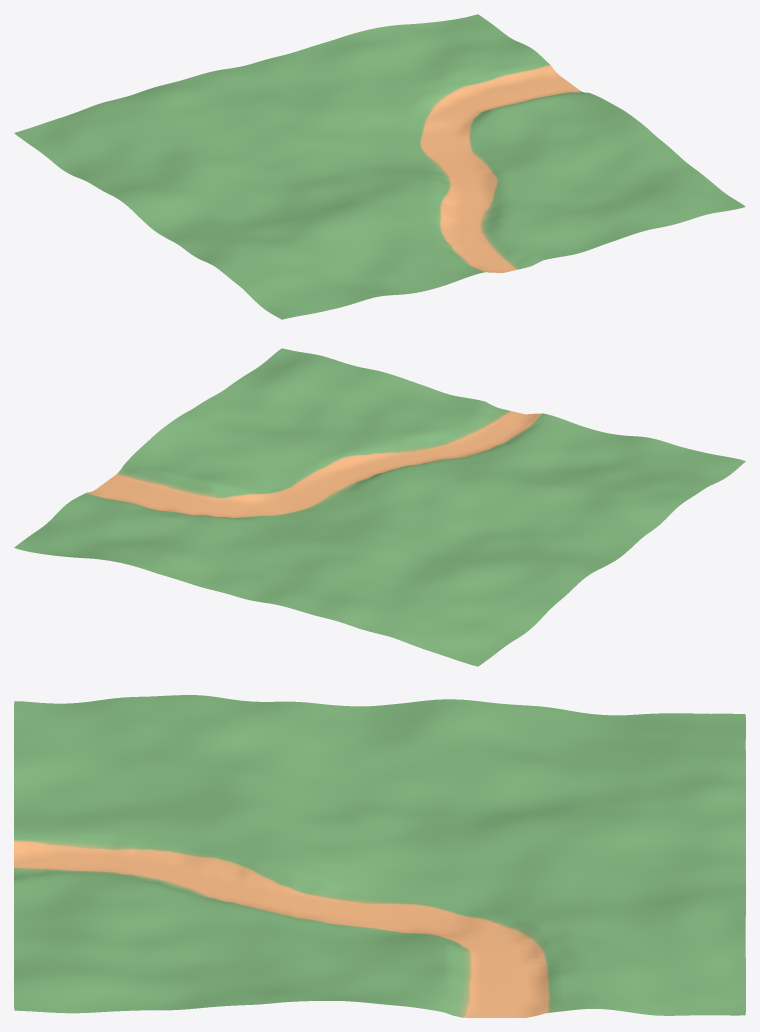
Rendered from Ground 2.fbx.
3 renders of one model, top to bottom at view 1: azimuth 30°, elevation 25°; view 2: azimuth 150°, elevation 25°; view 3: azimuth 270°, elevation 25°, orthographic. The views are drawn at different scales.
Parts seen in each view (by area): view 1: Plane.003; view 2: Plane.003; view 3: Plane.003.
Part boxes in pixels (bbox=[...]): Plane.003: bbox=[14, 14, 745, 319]; Plane.003: bbox=[14, 348, 745, 666]; Plane.003: bbox=[14, 695, 745, 1017].
Bounding box in the file's own units: 15661 × 587 × 15662.
Materials: 1 (1 with a texture image).
